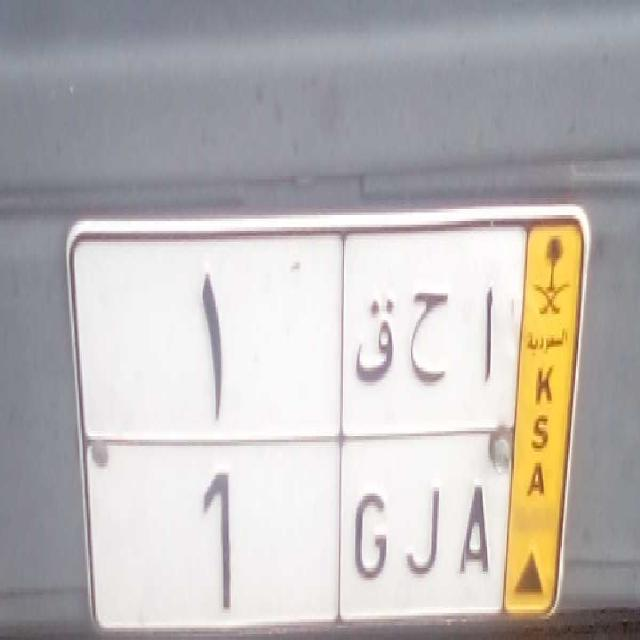license_plate: (82, 432, 511, 637)
